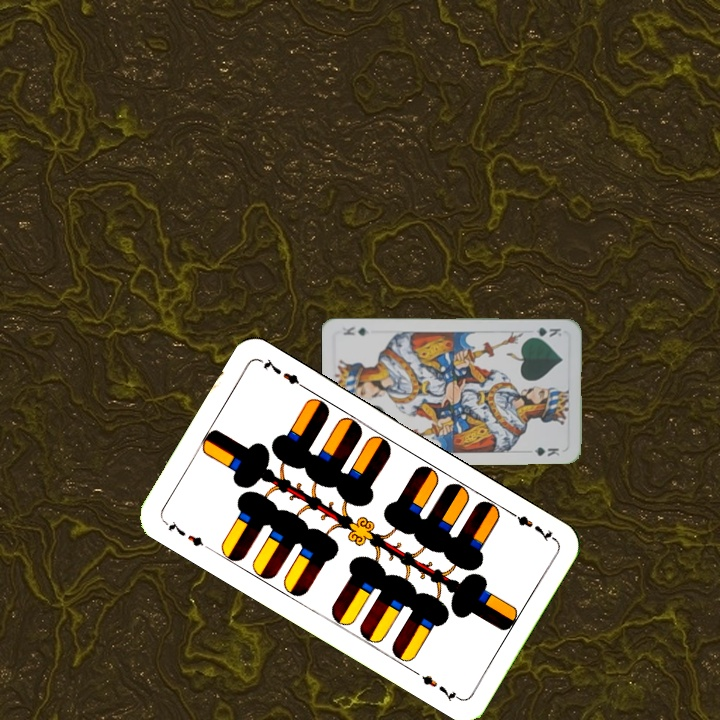E7: (504, 506, 558, 544), (160, 516, 206, 549)
GK: (525, 323, 564, 340)
